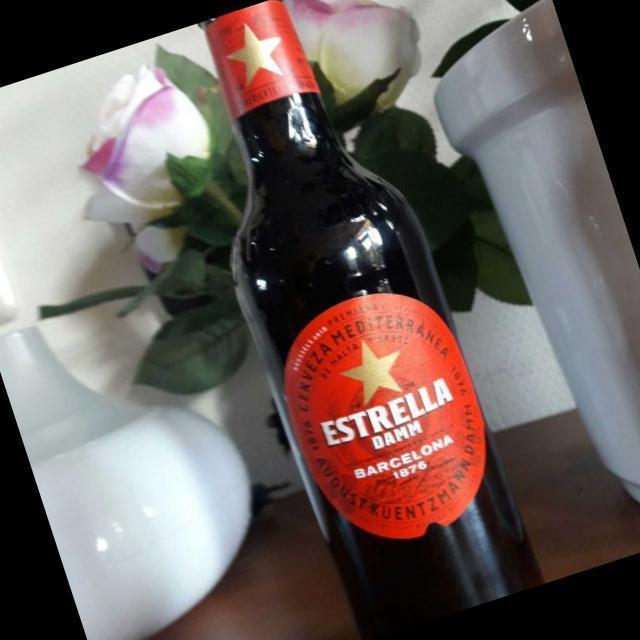Glass: (195, 0, 546, 640)
